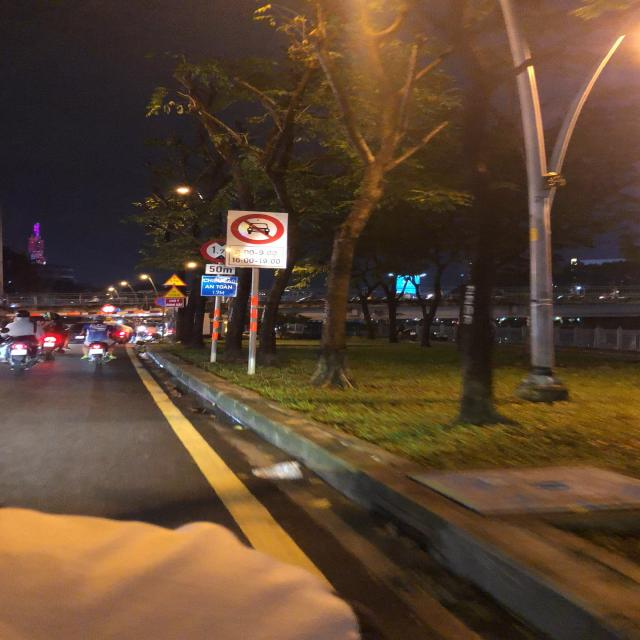Bien bao cam xe oto: (224, 212, 289, 246)
Bien bao chieu cao tinh khong thuc te: (161, 274, 186, 286)
Bien bao di cham: (162, 286, 187, 298)
